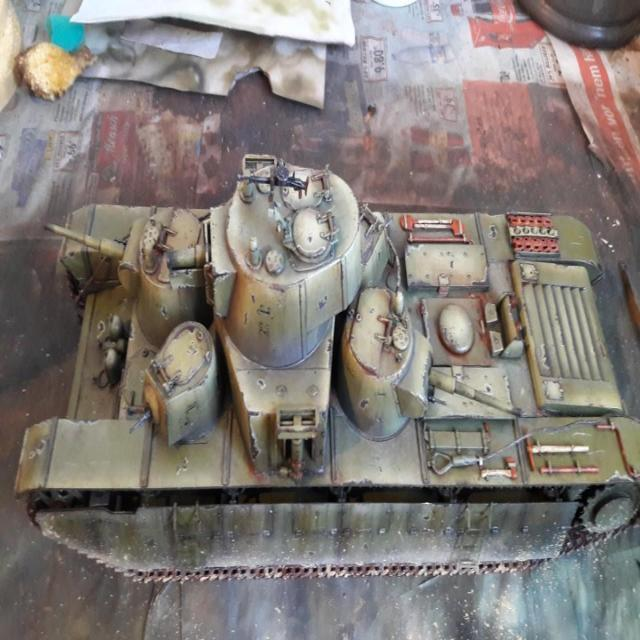Tanks: (35, 207, 633, 572)
